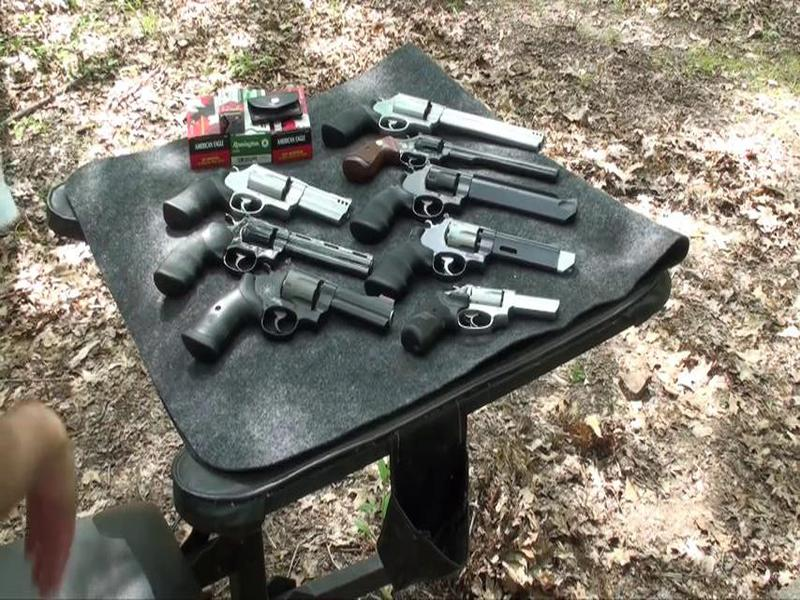Revolver: (185, 261, 398, 371), (155, 148, 355, 232), (327, 83, 559, 153), (397, 269, 563, 364)
